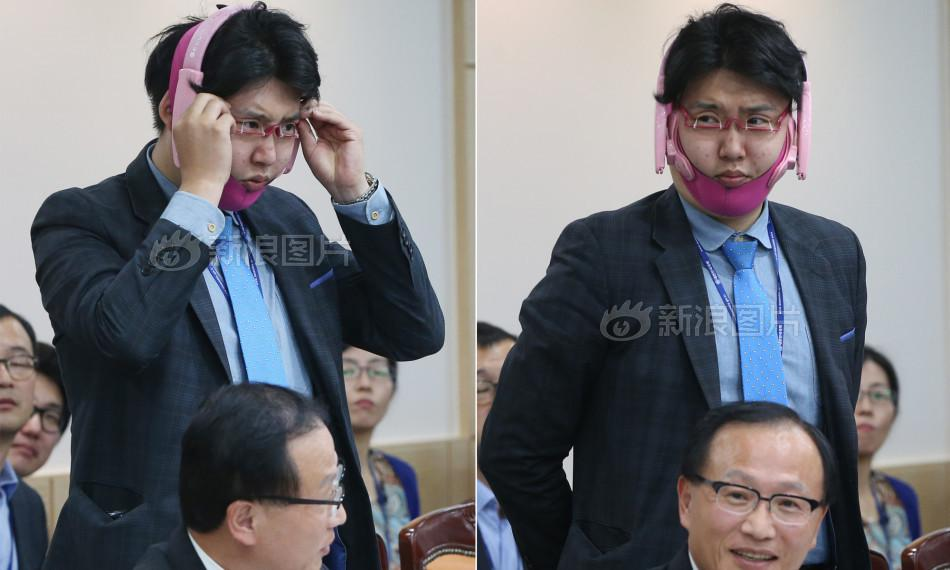NONE: (700, 461, 815, 570), (238, 459, 350, 570), (1, 394, 64, 476), (836, 372, 898, 452), (335, 356, 394, 422), (1, 341, 38, 431)
WRONG: (673, 97, 790, 214), (200, 93, 311, 204)
